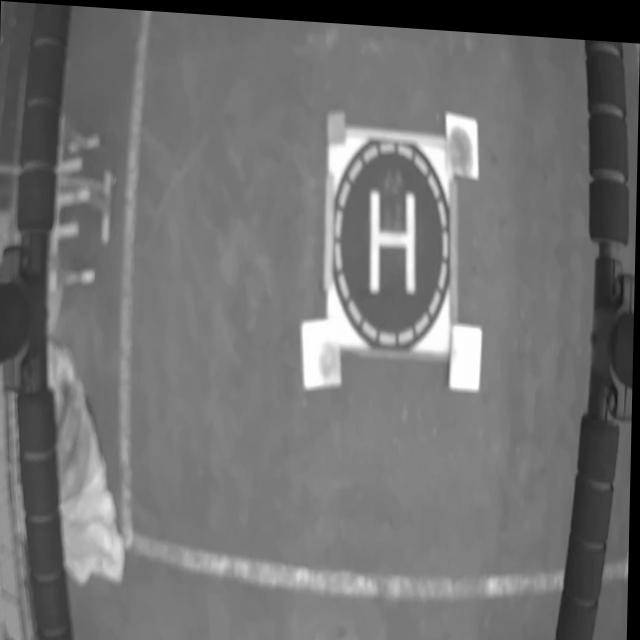Helipad: (368, 182, 417, 288)
